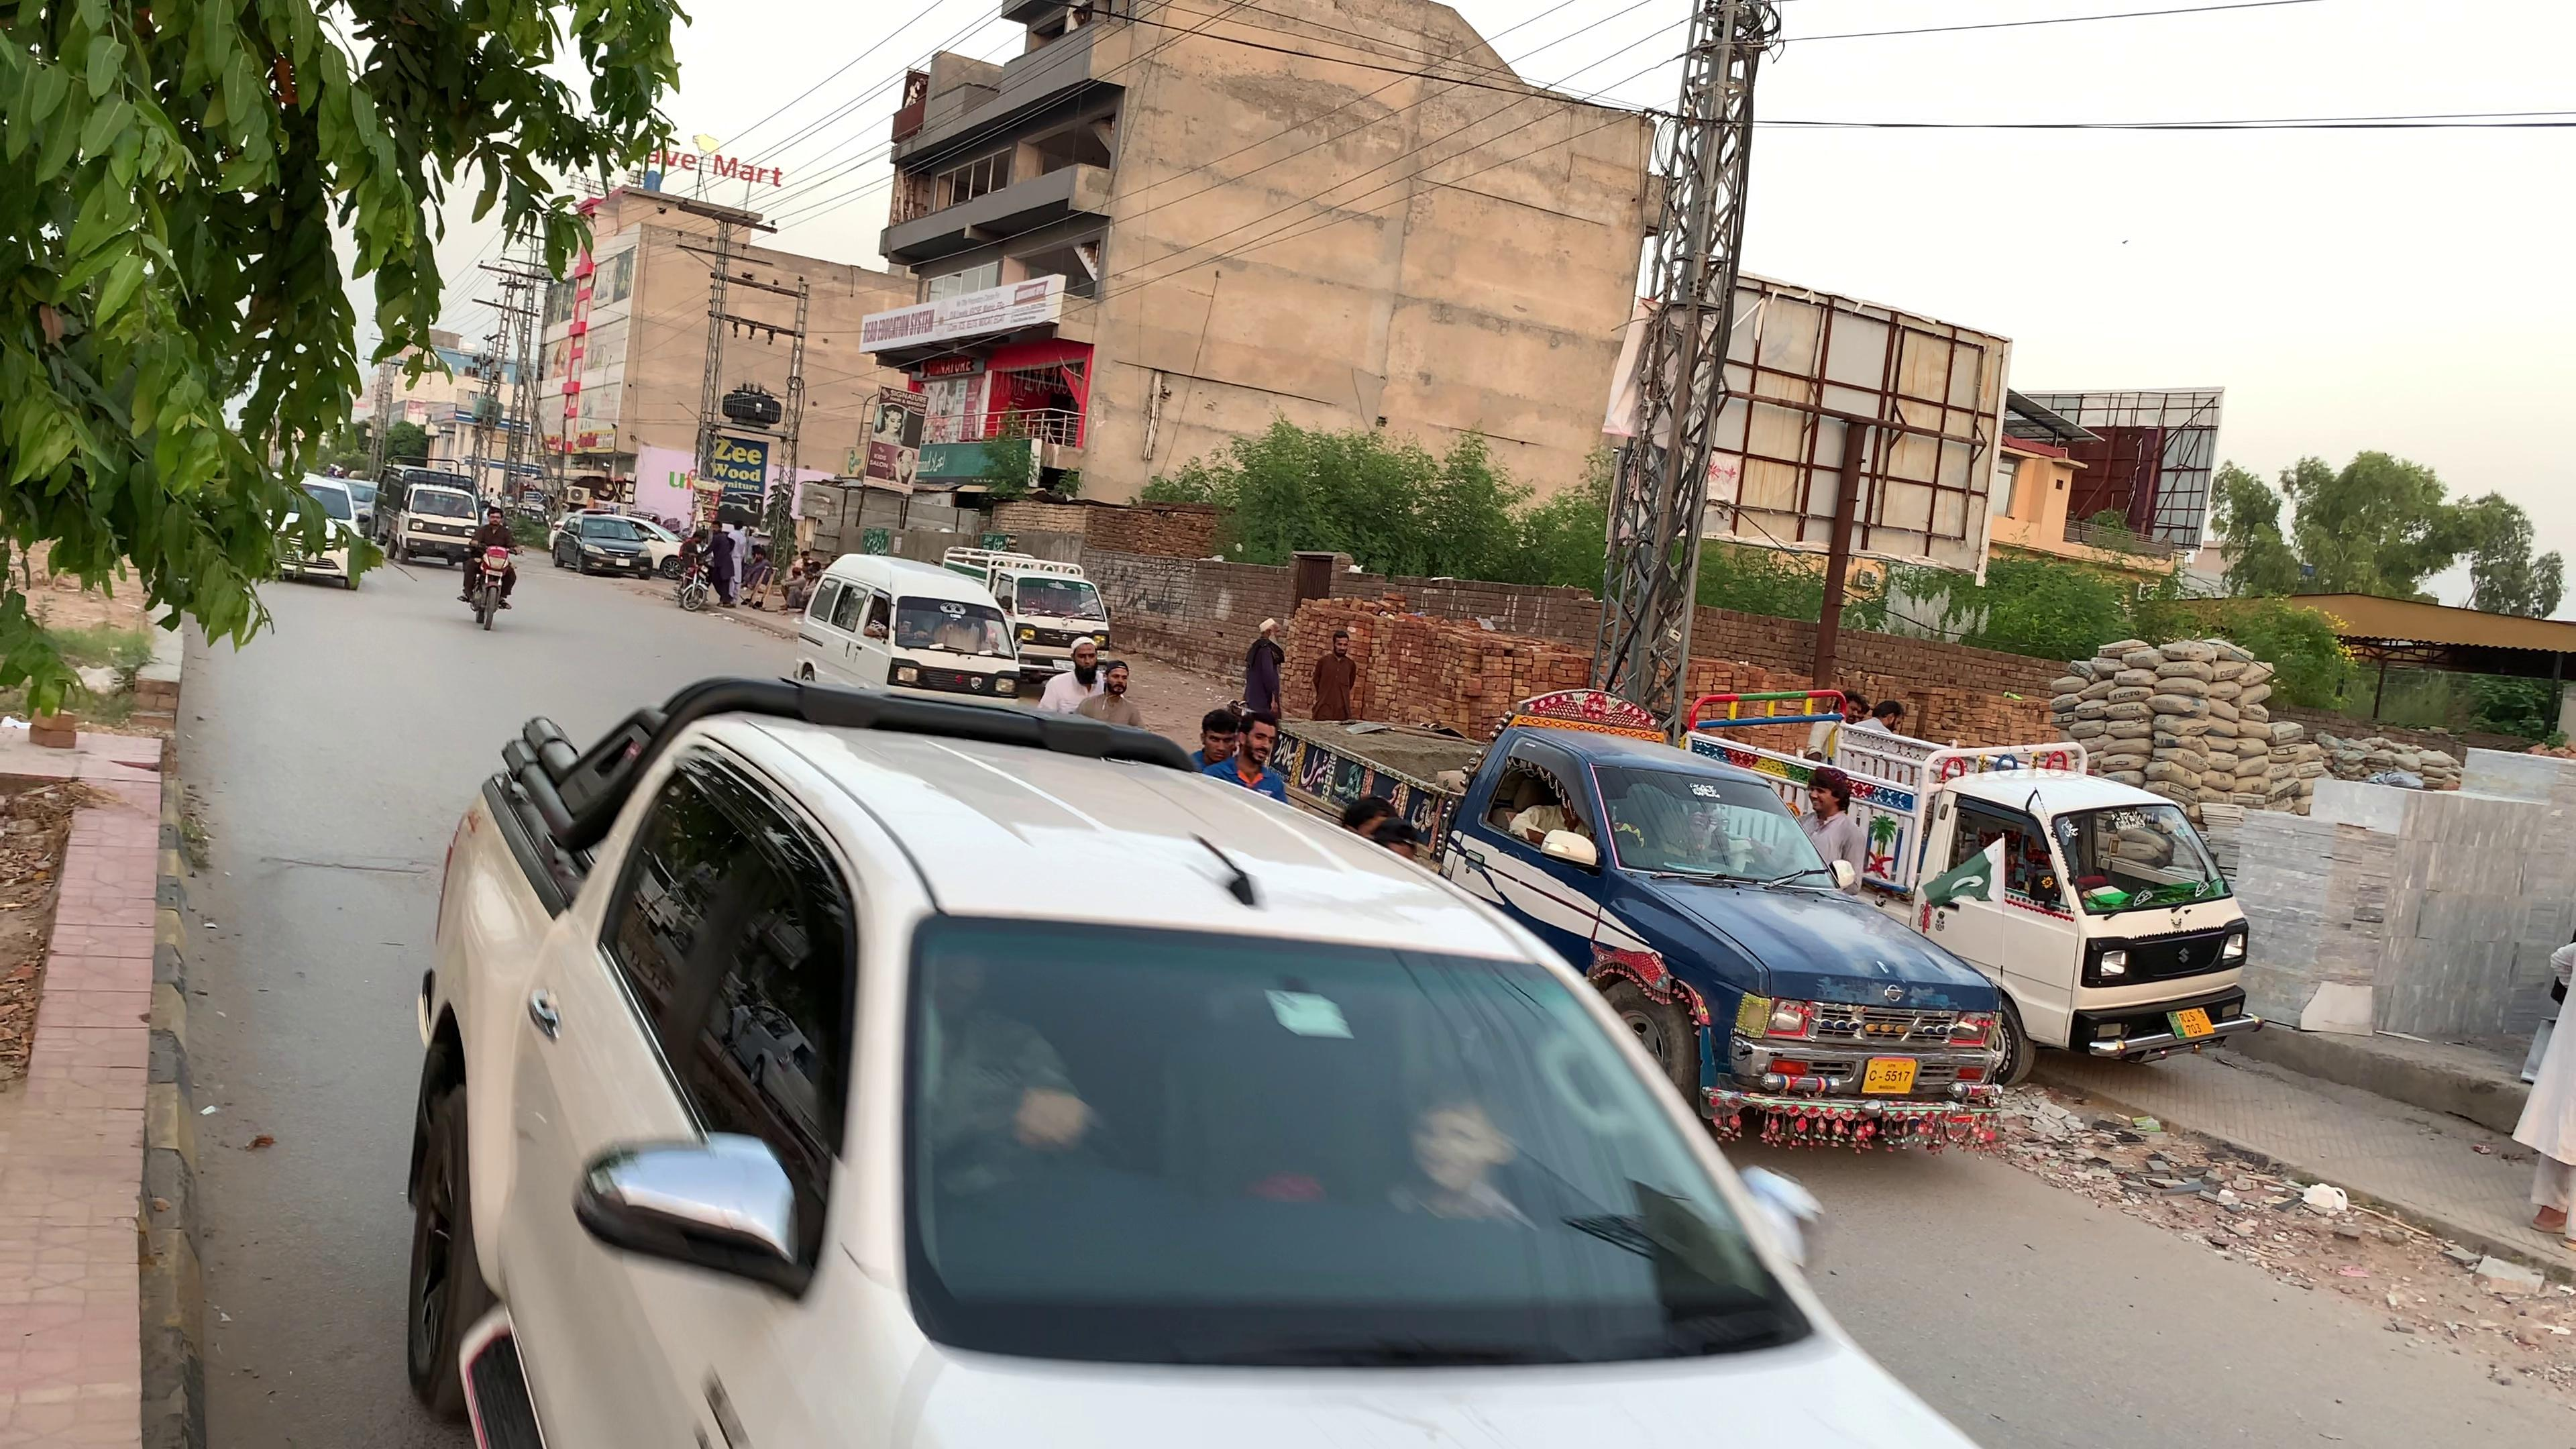windshield: (897, 888, 1831, 1341)
